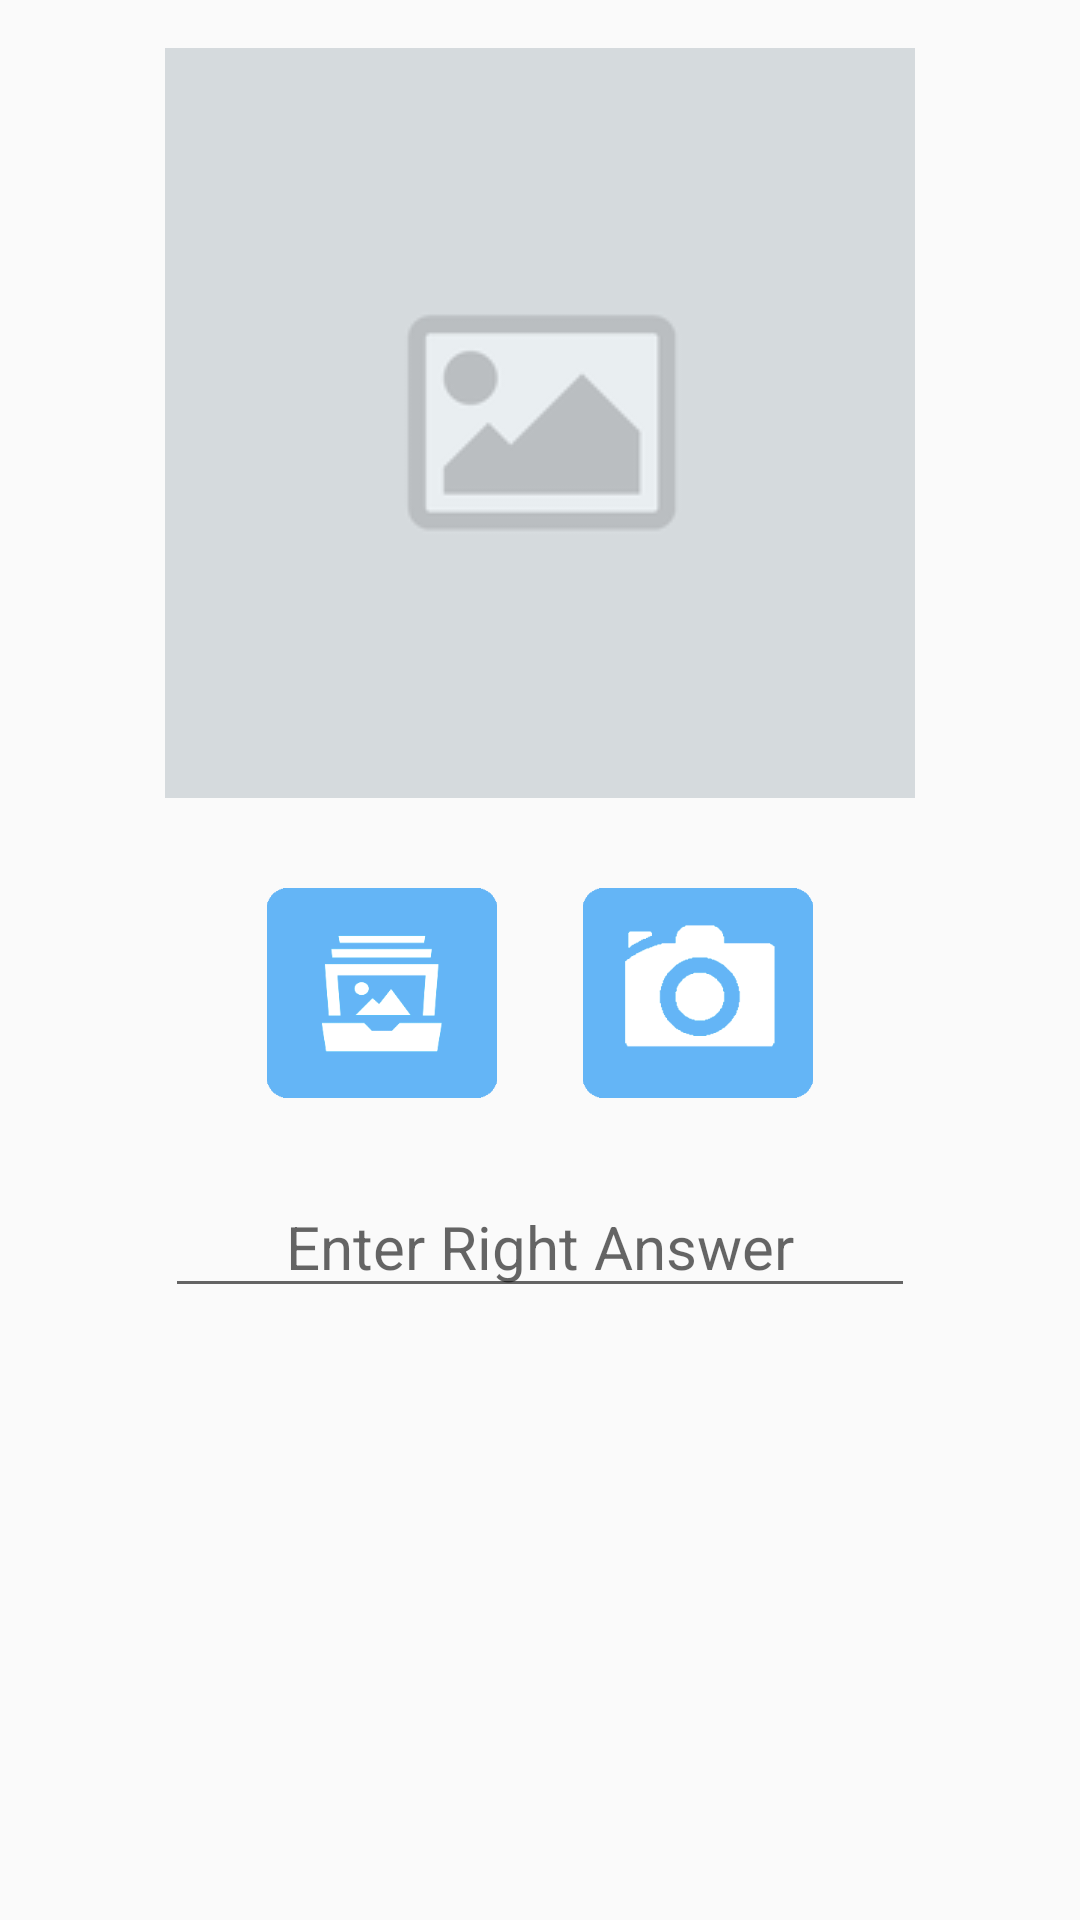

Where icons sit on this 1080x1920 app screen, as (x1, y1, x2, y2):
camera: (583, 888, 813, 1098)
library: (267, 888, 497, 1098)
